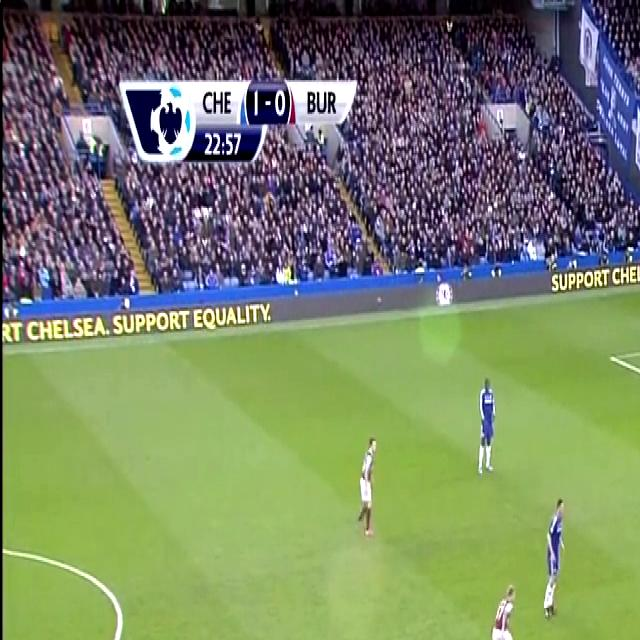soccer-player: (536, 488, 571, 622), (349, 424, 381, 545), (471, 364, 498, 480), (480, 574, 518, 640), (636, 581, 640, 640)
